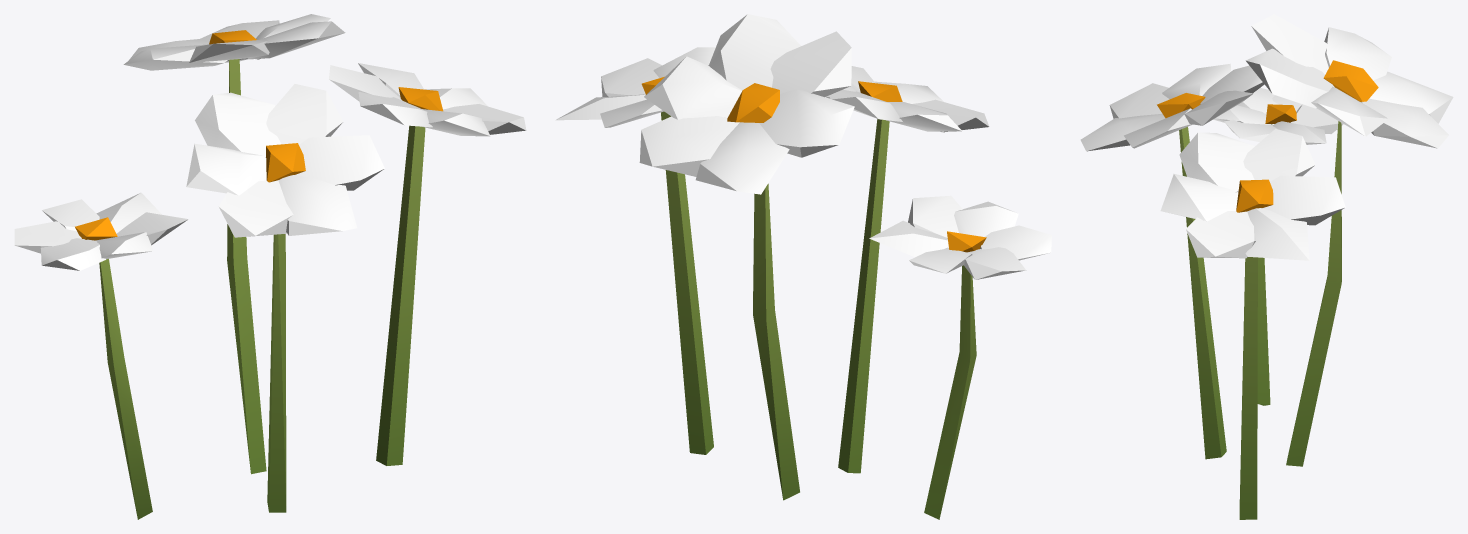
Rendered from Spring_Flower_08.glb.
The picture shows the model from 3 angles, left to right: view 1: azimuth 30°, elevation 25°; view 2: azimuth 150°, elevation 25°; view 3: azimuth 270°, elevation 25°; orthographic projection. The views are drawn at different scales.
Visible parts, largest first — view 1: Spring_Flower_08_LOD0; view 2: Spring_Flower_08_LOD0; view 3: Spring_Flower_08_LOD0.
Part boxes in pixels (x1=…): Spring_Flower_08_LOD0: x1=14, y1=14, x2=526, y2=519; Spring_Flower_08_LOD0: x1=555, y1=14, x2=1051, y2=519; Spring_Flower_08_LOD0: x1=1080, y1=14, x2=1453, y2=519.
Size of what is drawn, in the model's own units: 0.3158 by 0.2938 by 0.2308.
1 material, 1 textured.
